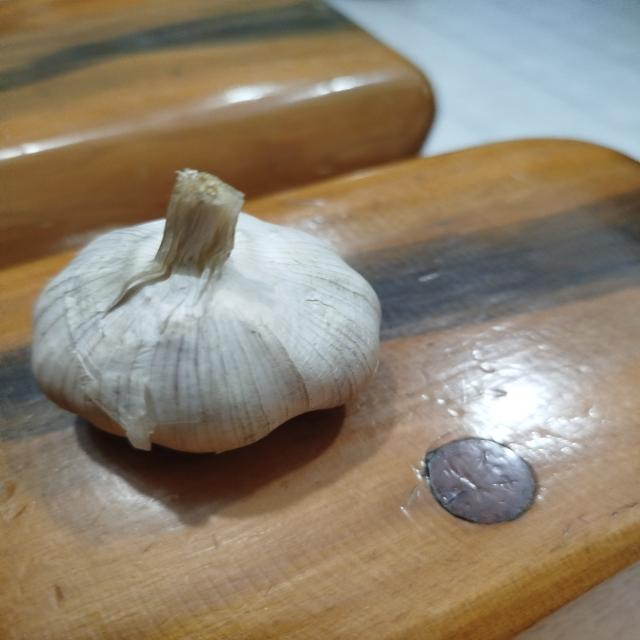garlic: (29, 167, 383, 455)
